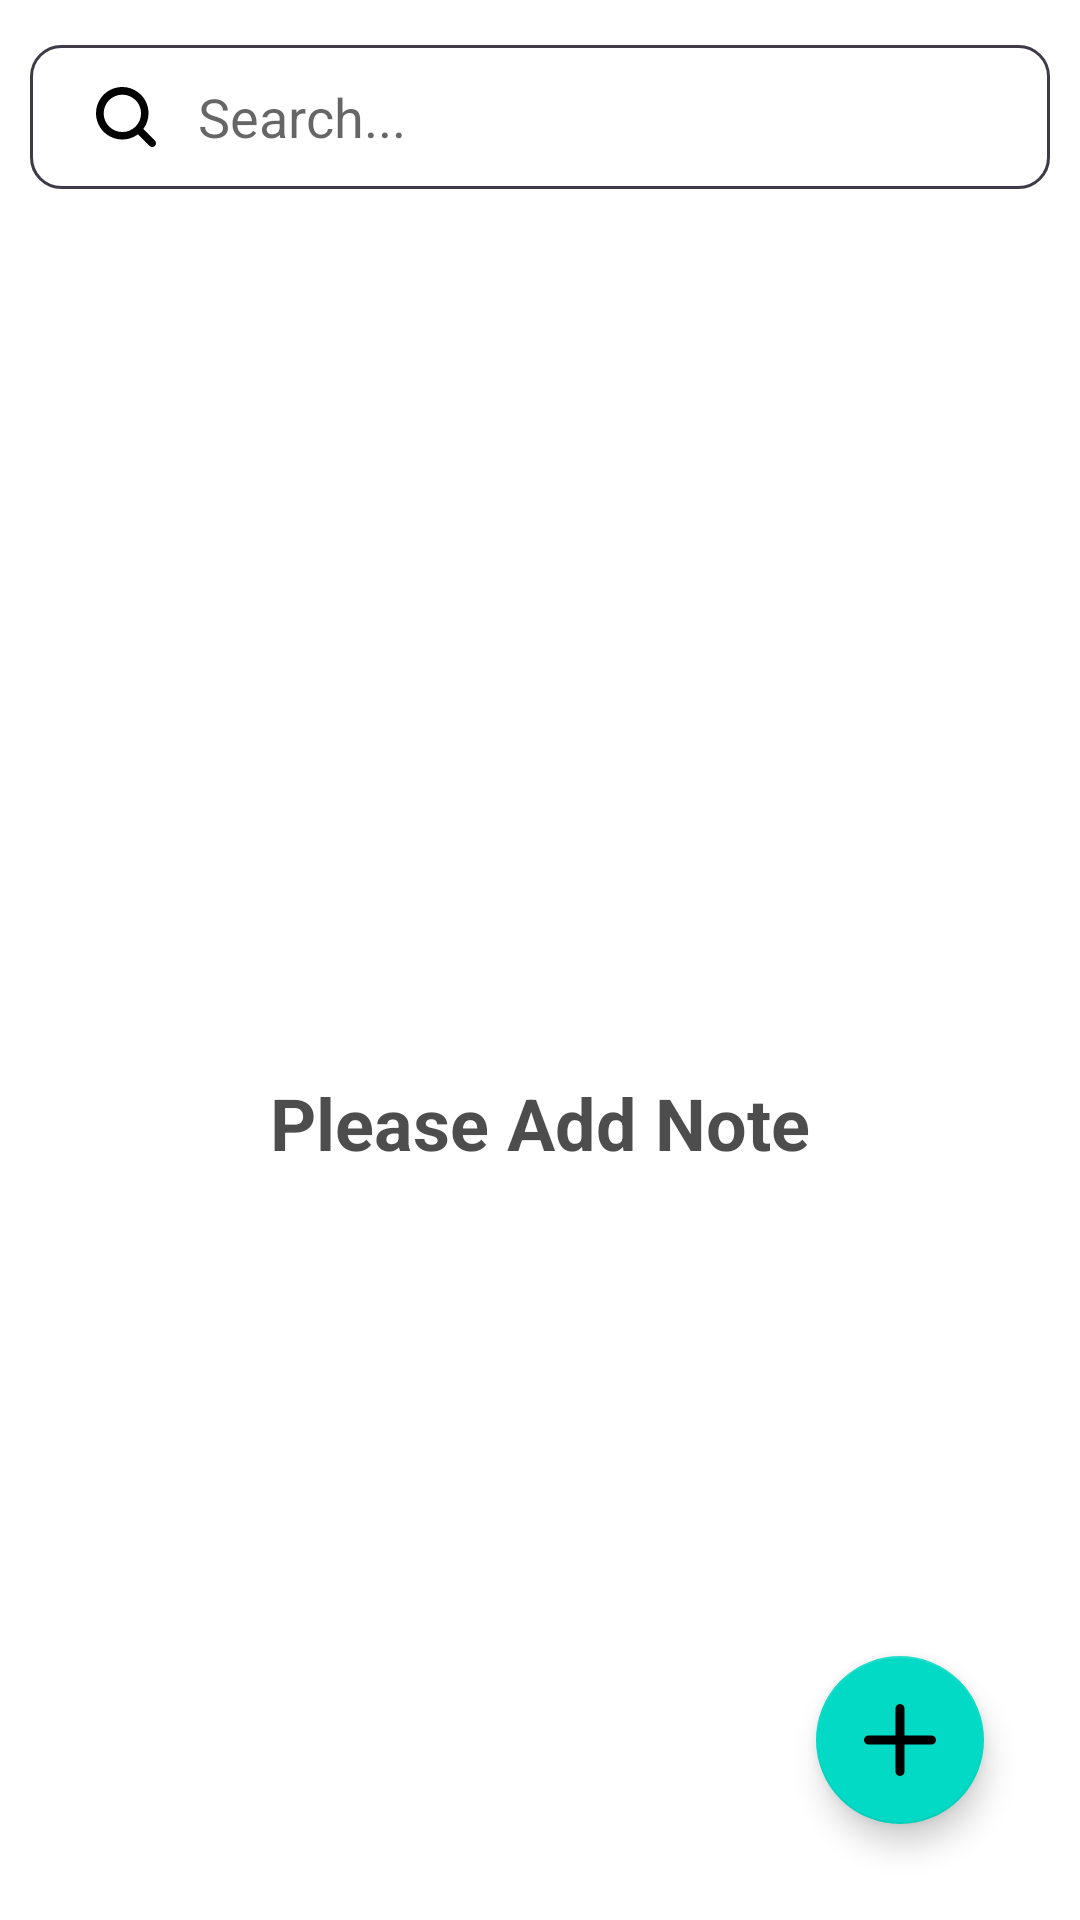

Locate icon controls on the screen. Image size 1080×1920, boxes as {"x1": x1, "y1": y1, "x2": x2, "y2": y2}.
Floating Action Button Add Notes: {"x1": 816, "y1": 1656, "x2": 984, "y2": 1824}
